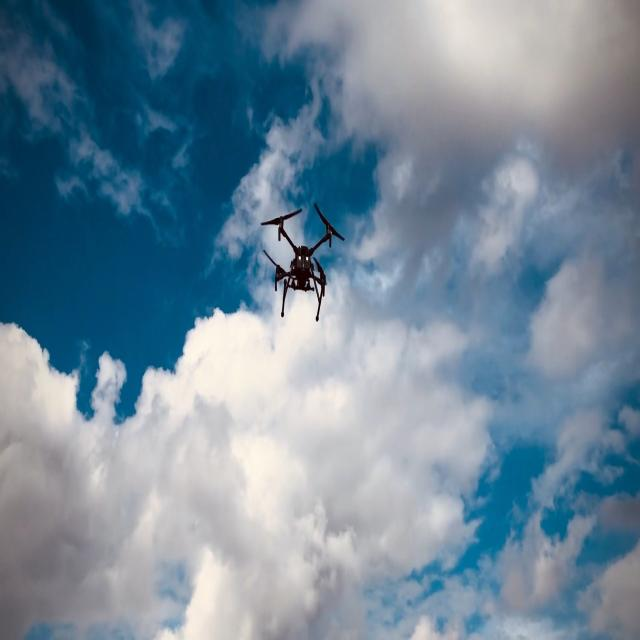drone: (260, 200, 345, 322)
